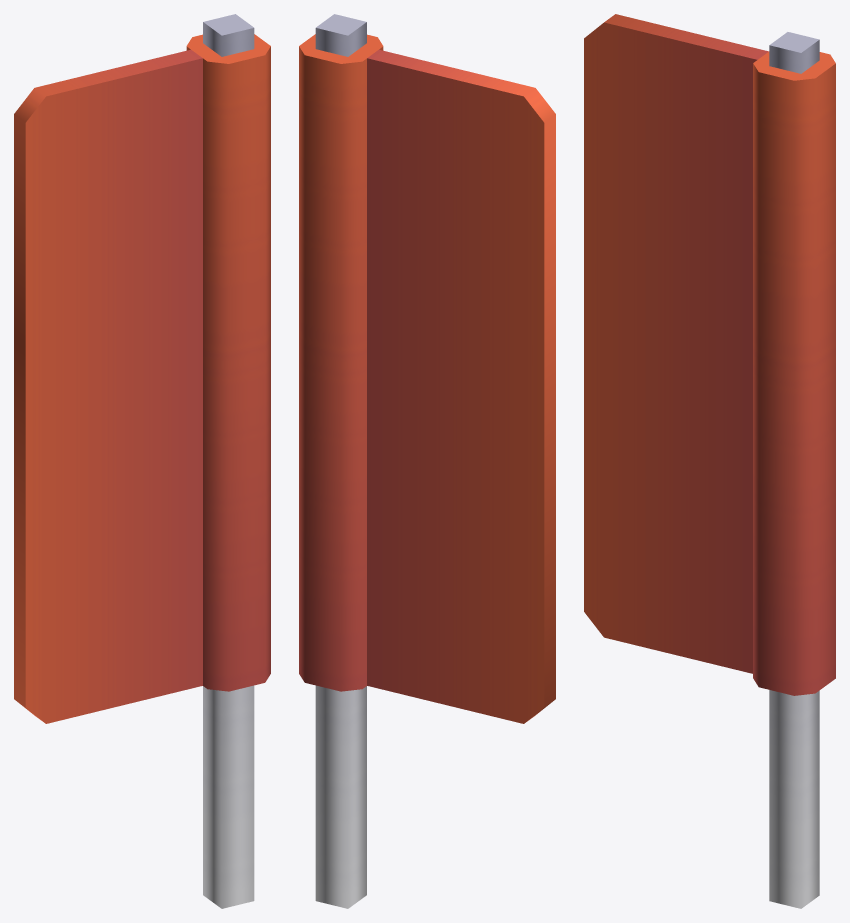
File: flag-large-red.glb
3 renders of one model, left to right at view 1: azimuth 30°, elevation 25°; view 2: azimuth 150°, elevation 25°; view 3: azimuth 330°, elevation 25°, orthographic. The views are drawn at different scales.
Visible parts, largest first — view 1: flag-large-red; view 2: flag-large-red; view 3: flag-large-red.
Part boxes in pixels (box(x1,y1,x2,y2)): flag-large-red: box(14, 14, 270, 908); flag-large-red: box(299, 14, 555, 908); flag-large-red: box(584, 14, 835, 908).
Size of the model in its own units: 0.2955 by 1.02 by 0.0781.
Materials: 1 (1 with a texture image).
